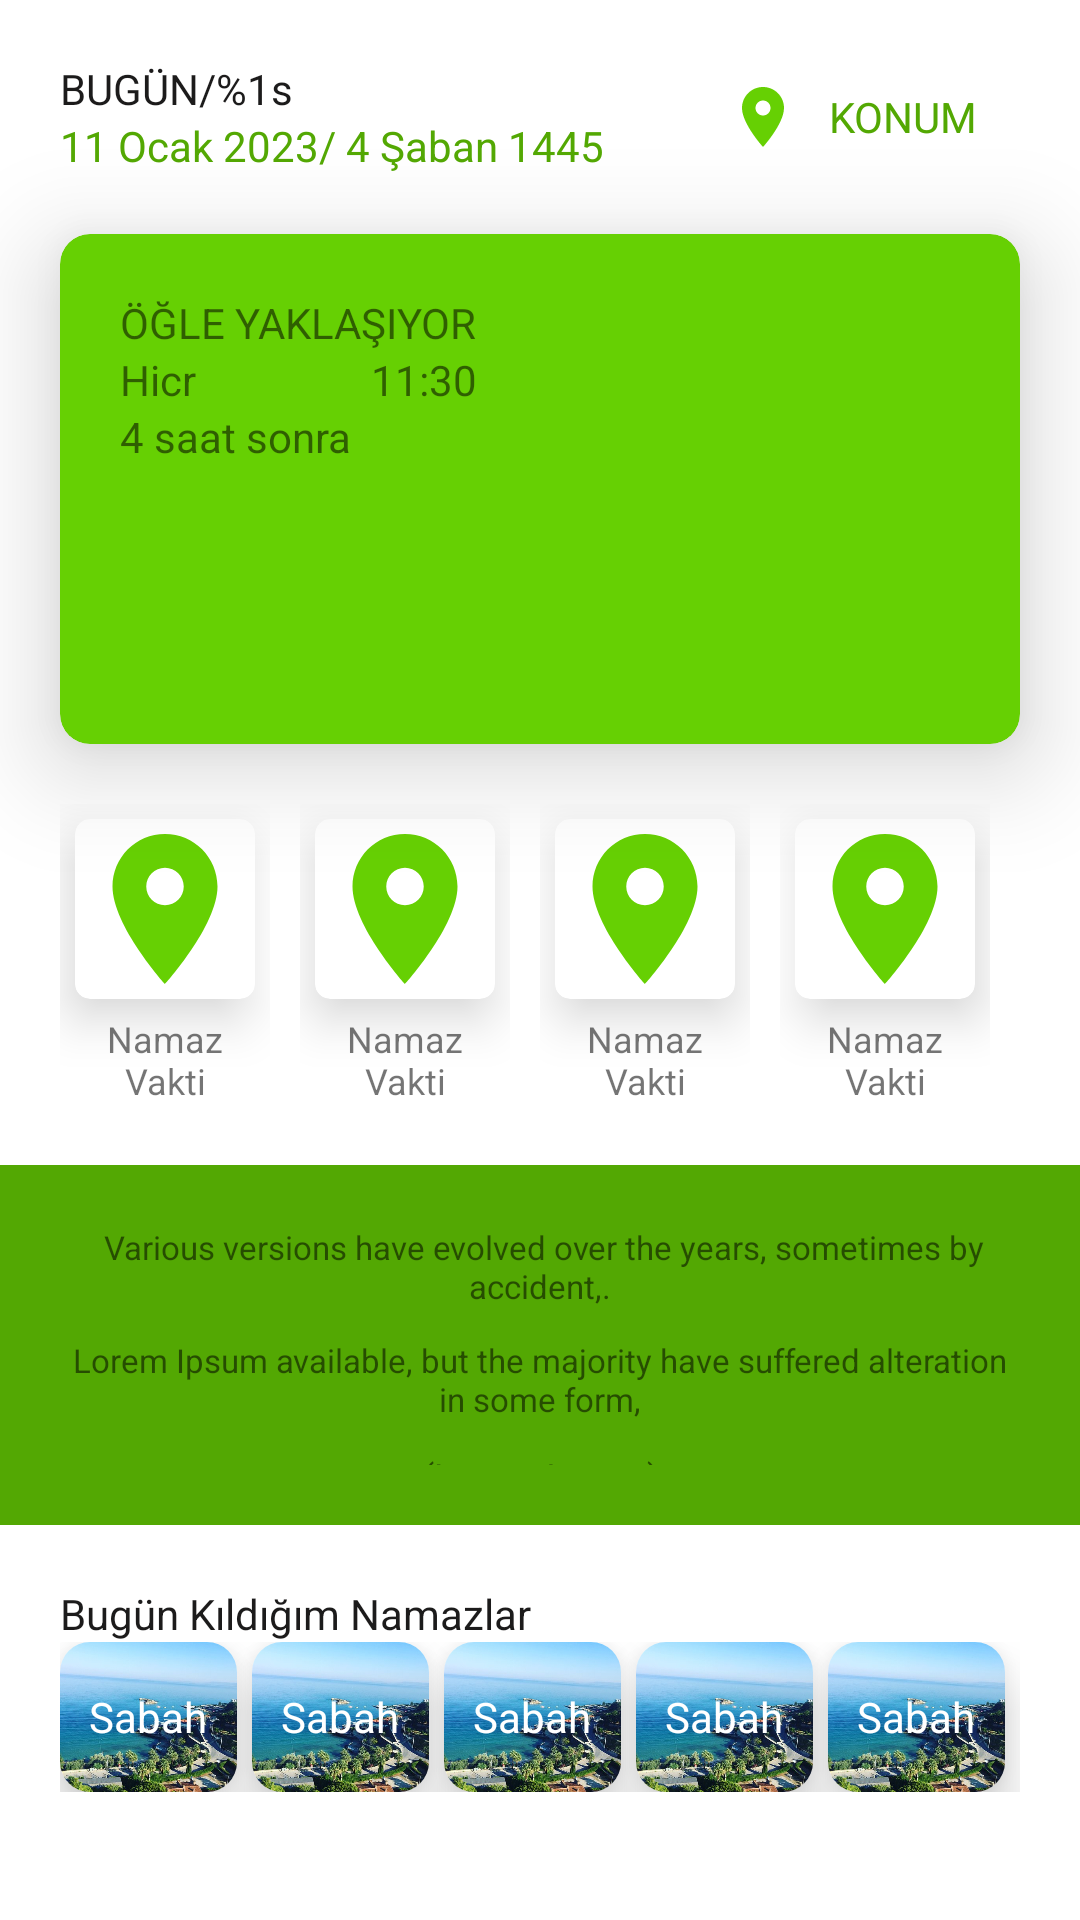

Screen size 1080×1920. Icon name, then its box in pixels as (x1, y1, x2, y2):
location on: (742, 87, 784, 147), (112, 834, 218, 984), (352, 834, 458, 984), (592, 834, 698, 984), (832, 834, 938, 984)
manzara: (60, 1642, 237, 1792), (252, 1642, 429, 1792), (444, 1642, 621, 1792), (636, 1642, 813, 1792), (828, 1642, 1005, 1792)
